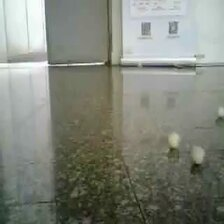w: (189, 145, 204, 164), (167, 131, 181, 149), (217, 107, 224, 117)
